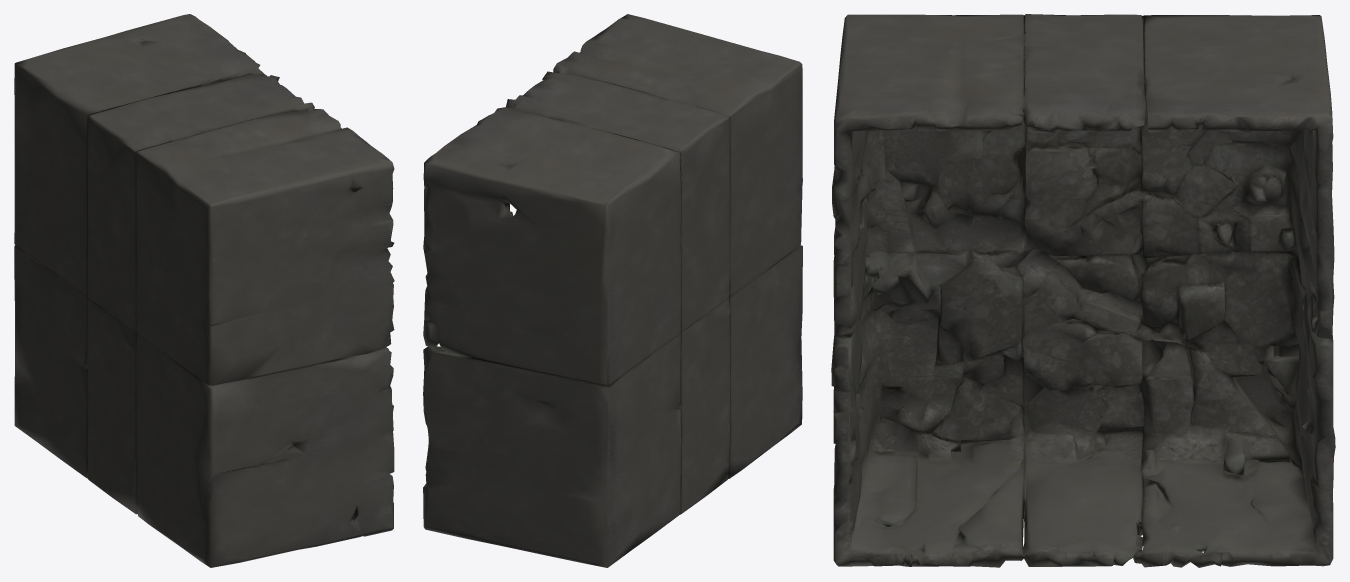
Rendered from ceiling_old.glb.
3 renders of one model, left to right at view 1: azimuth 30°, elevation 25°; view 2: azimuth 150°, elevation 25°; view 3: azimuth 270°, elevation 25°, orthographic. The views are drawn at different scales.
Visible parts, largest first — view 1: tripo_node_599e01b5-74ba-416d-984f-0122f3192fa6; view 2: tripo_node_599e01b5-74ba-416d-984f-0122f3192fa6; view 3: tripo_node_599e01b5-74ba-416d-984f-0122f3192fa6.
Boxes of the visible parts, bbox=[...] form: tripo_node_599e01b5-74ba-416d-984f-0122f3192fa6: bbox=[14, 14, 394, 567]; tripo_node_599e01b5-74ba-416d-984f-0122f3192fa6: bbox=[423, 14, 802, 567]; tripo_node_599e01b5-74ba-416d-984f-0122f3192fa6: bbox=[831, 14, 1335, 567].
Size of the model in its own units: 0.5315 by 1 by 0.9998.
Materials: 1 (1 with a texture image).
